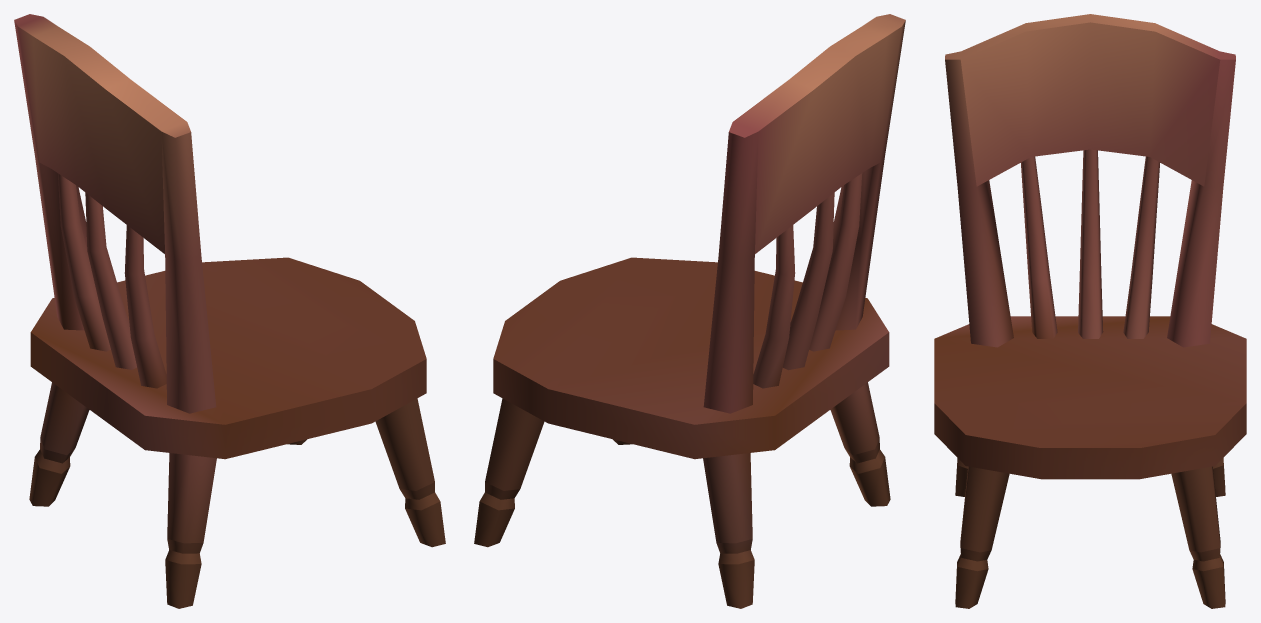
The model's file is Chair_3.fbx.
3 views of the same model, side by side, from view 1: azimuth 30°, elevation 25°; view 2: azimuth 150°, elevation 25°; view 3: azimuth 270°, elevation 25° (orthographic). The views are drawn at different scales.
Visible parts, largest first — view 1: Chair3; view 2: Chair3; view 3: Chair3.
Part boxes in pixels (box(x1,y1,x2,y2)): Chair3: box(14, 14, 445, 608); Chair3: box(474, 14, 905, 608); Chair3: box(934, 14, 1246, 608).
Bounding box in the file's own units: 113 × 171 × 105.
